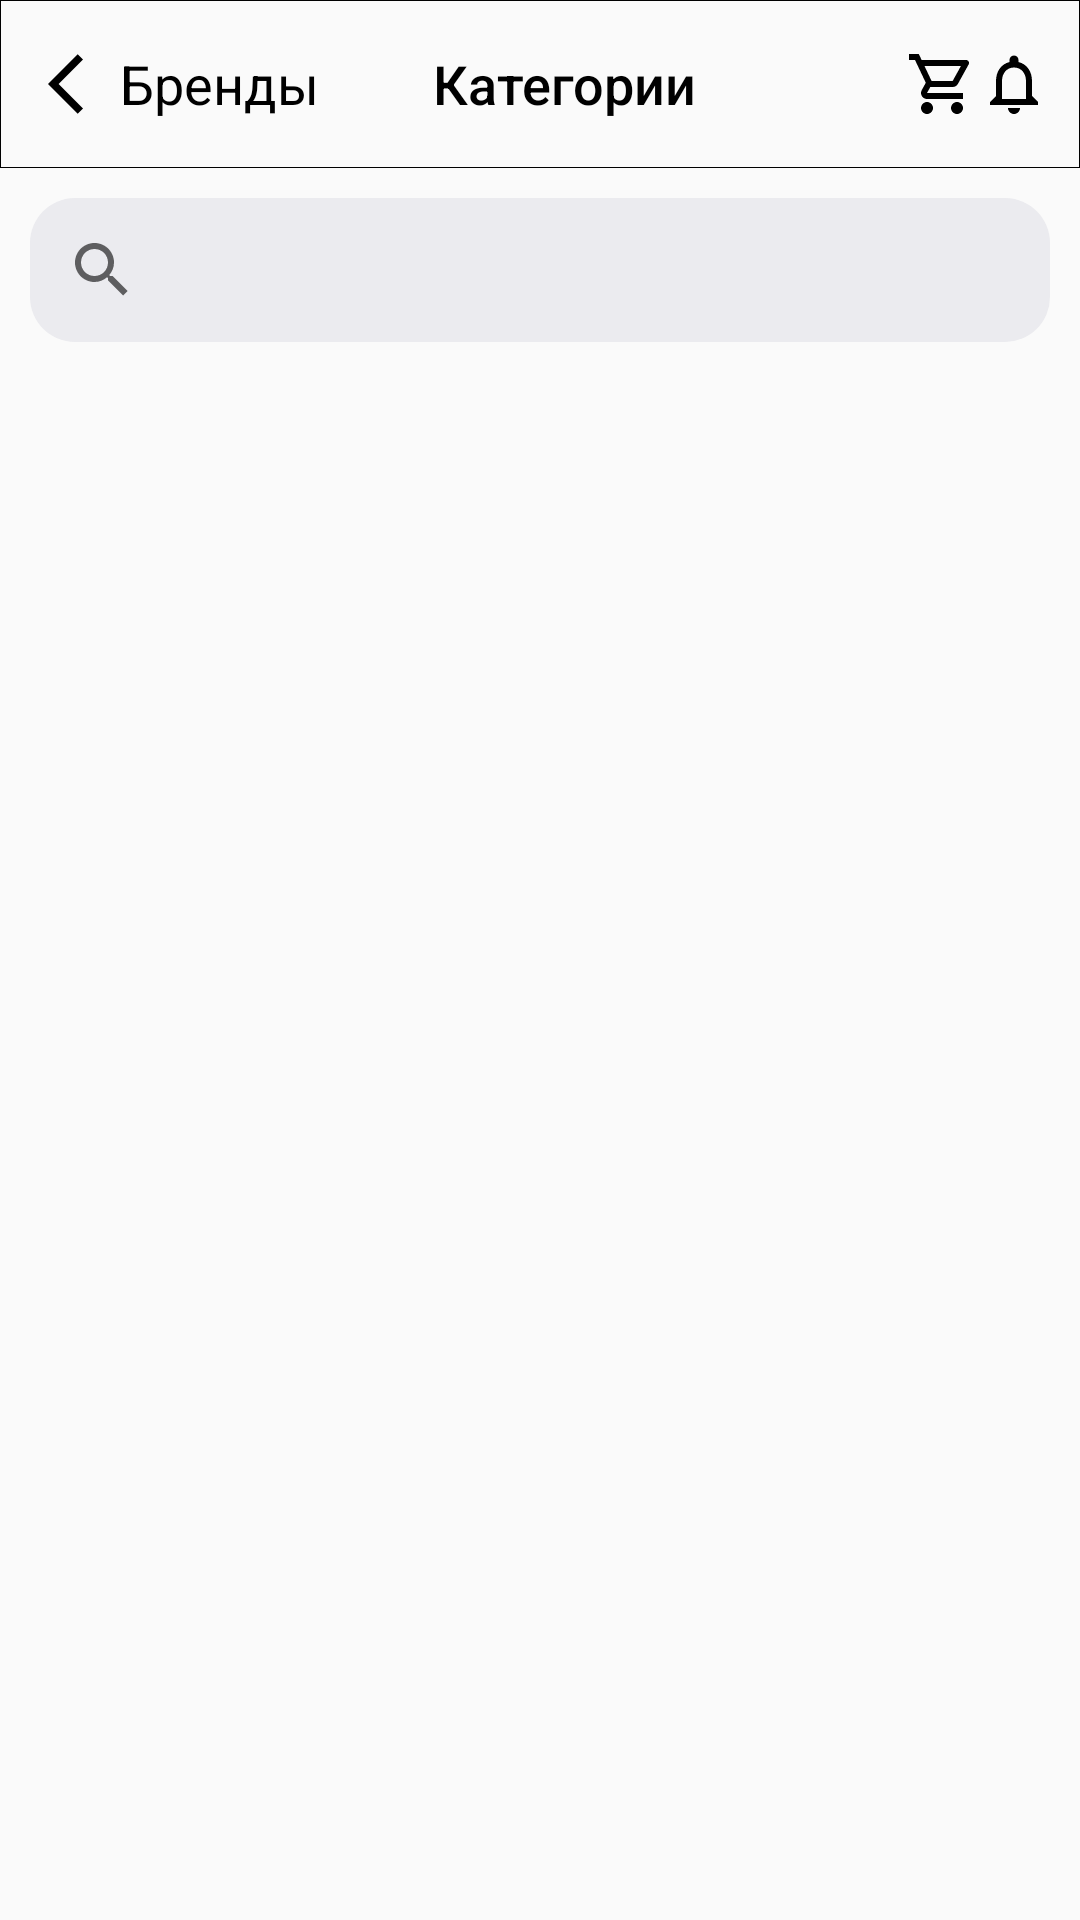

Where to tap for icons on this 1080x1920 app screen, as (x,y):
notifications: (1014,84)
